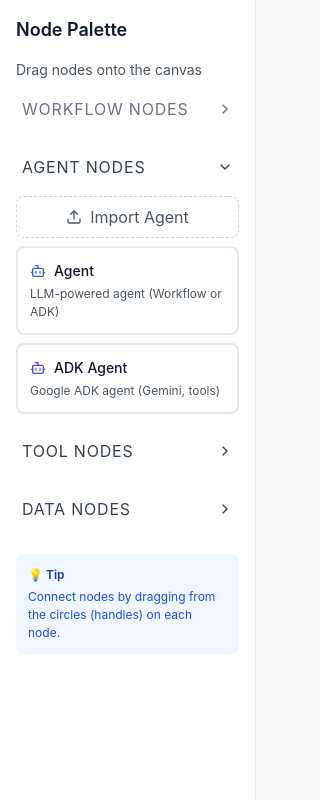
Scenario: NodePanel › should toggle workflow nodes category
Expected: the text "Start" is not shown
Click the button "Workflow Nodes": {"x": 128, "y": 109} [16,96,239,122]
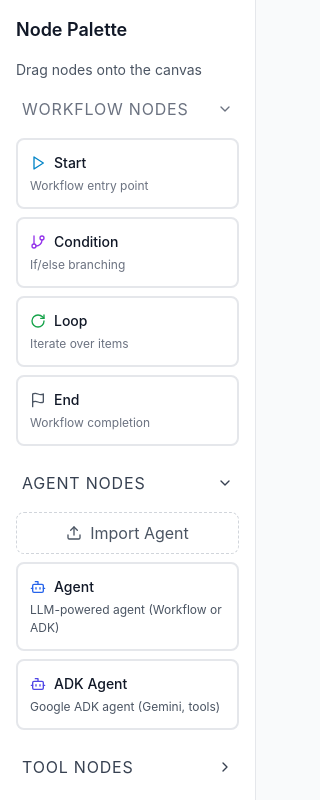
Expected: the text "Start" is shown, [54,152,86,173]
Expected: the text "Condition" is shown, [54,231,118,252]
Expected: the text "Loop" is shown, [54,310,88,331]
